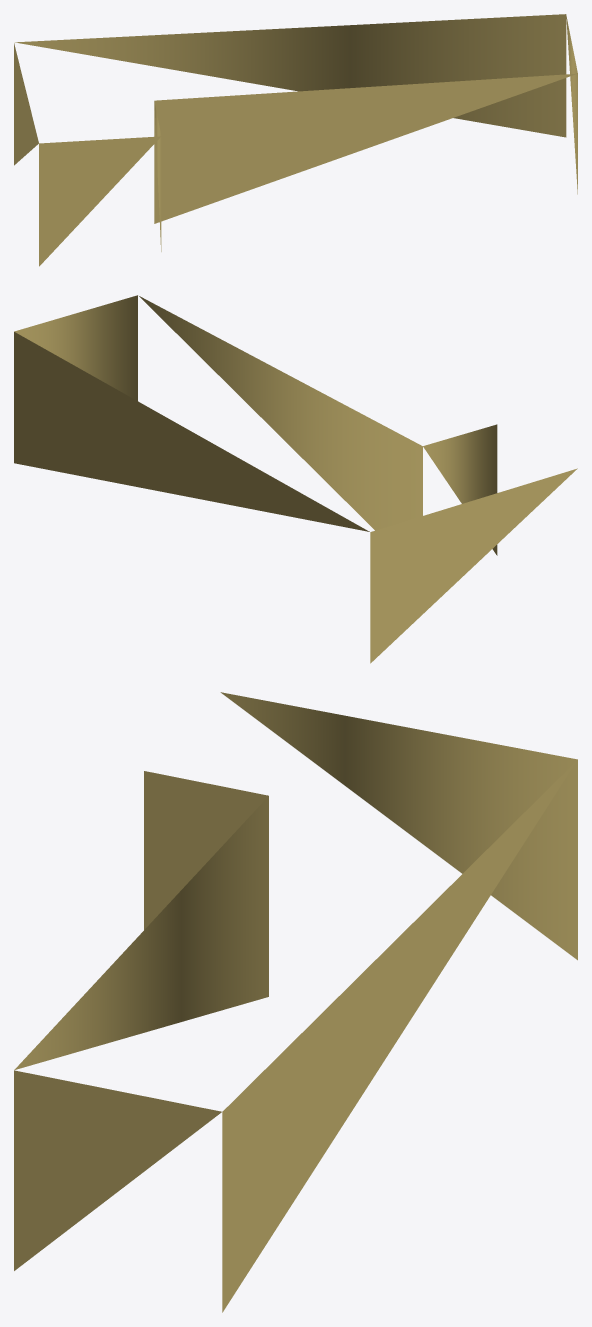
The picture shows the model from 3 angles, top to bottom: view 1: azimuth 30°, elevation 25°; view 2: azimuth 150°, elevation 25°; view 3: azimuth 270°, elevation 25°; orthographic projection. The views are drawn at different scales.
Bounding box in the file's own units: 67.14 × 15 × 38.13.
